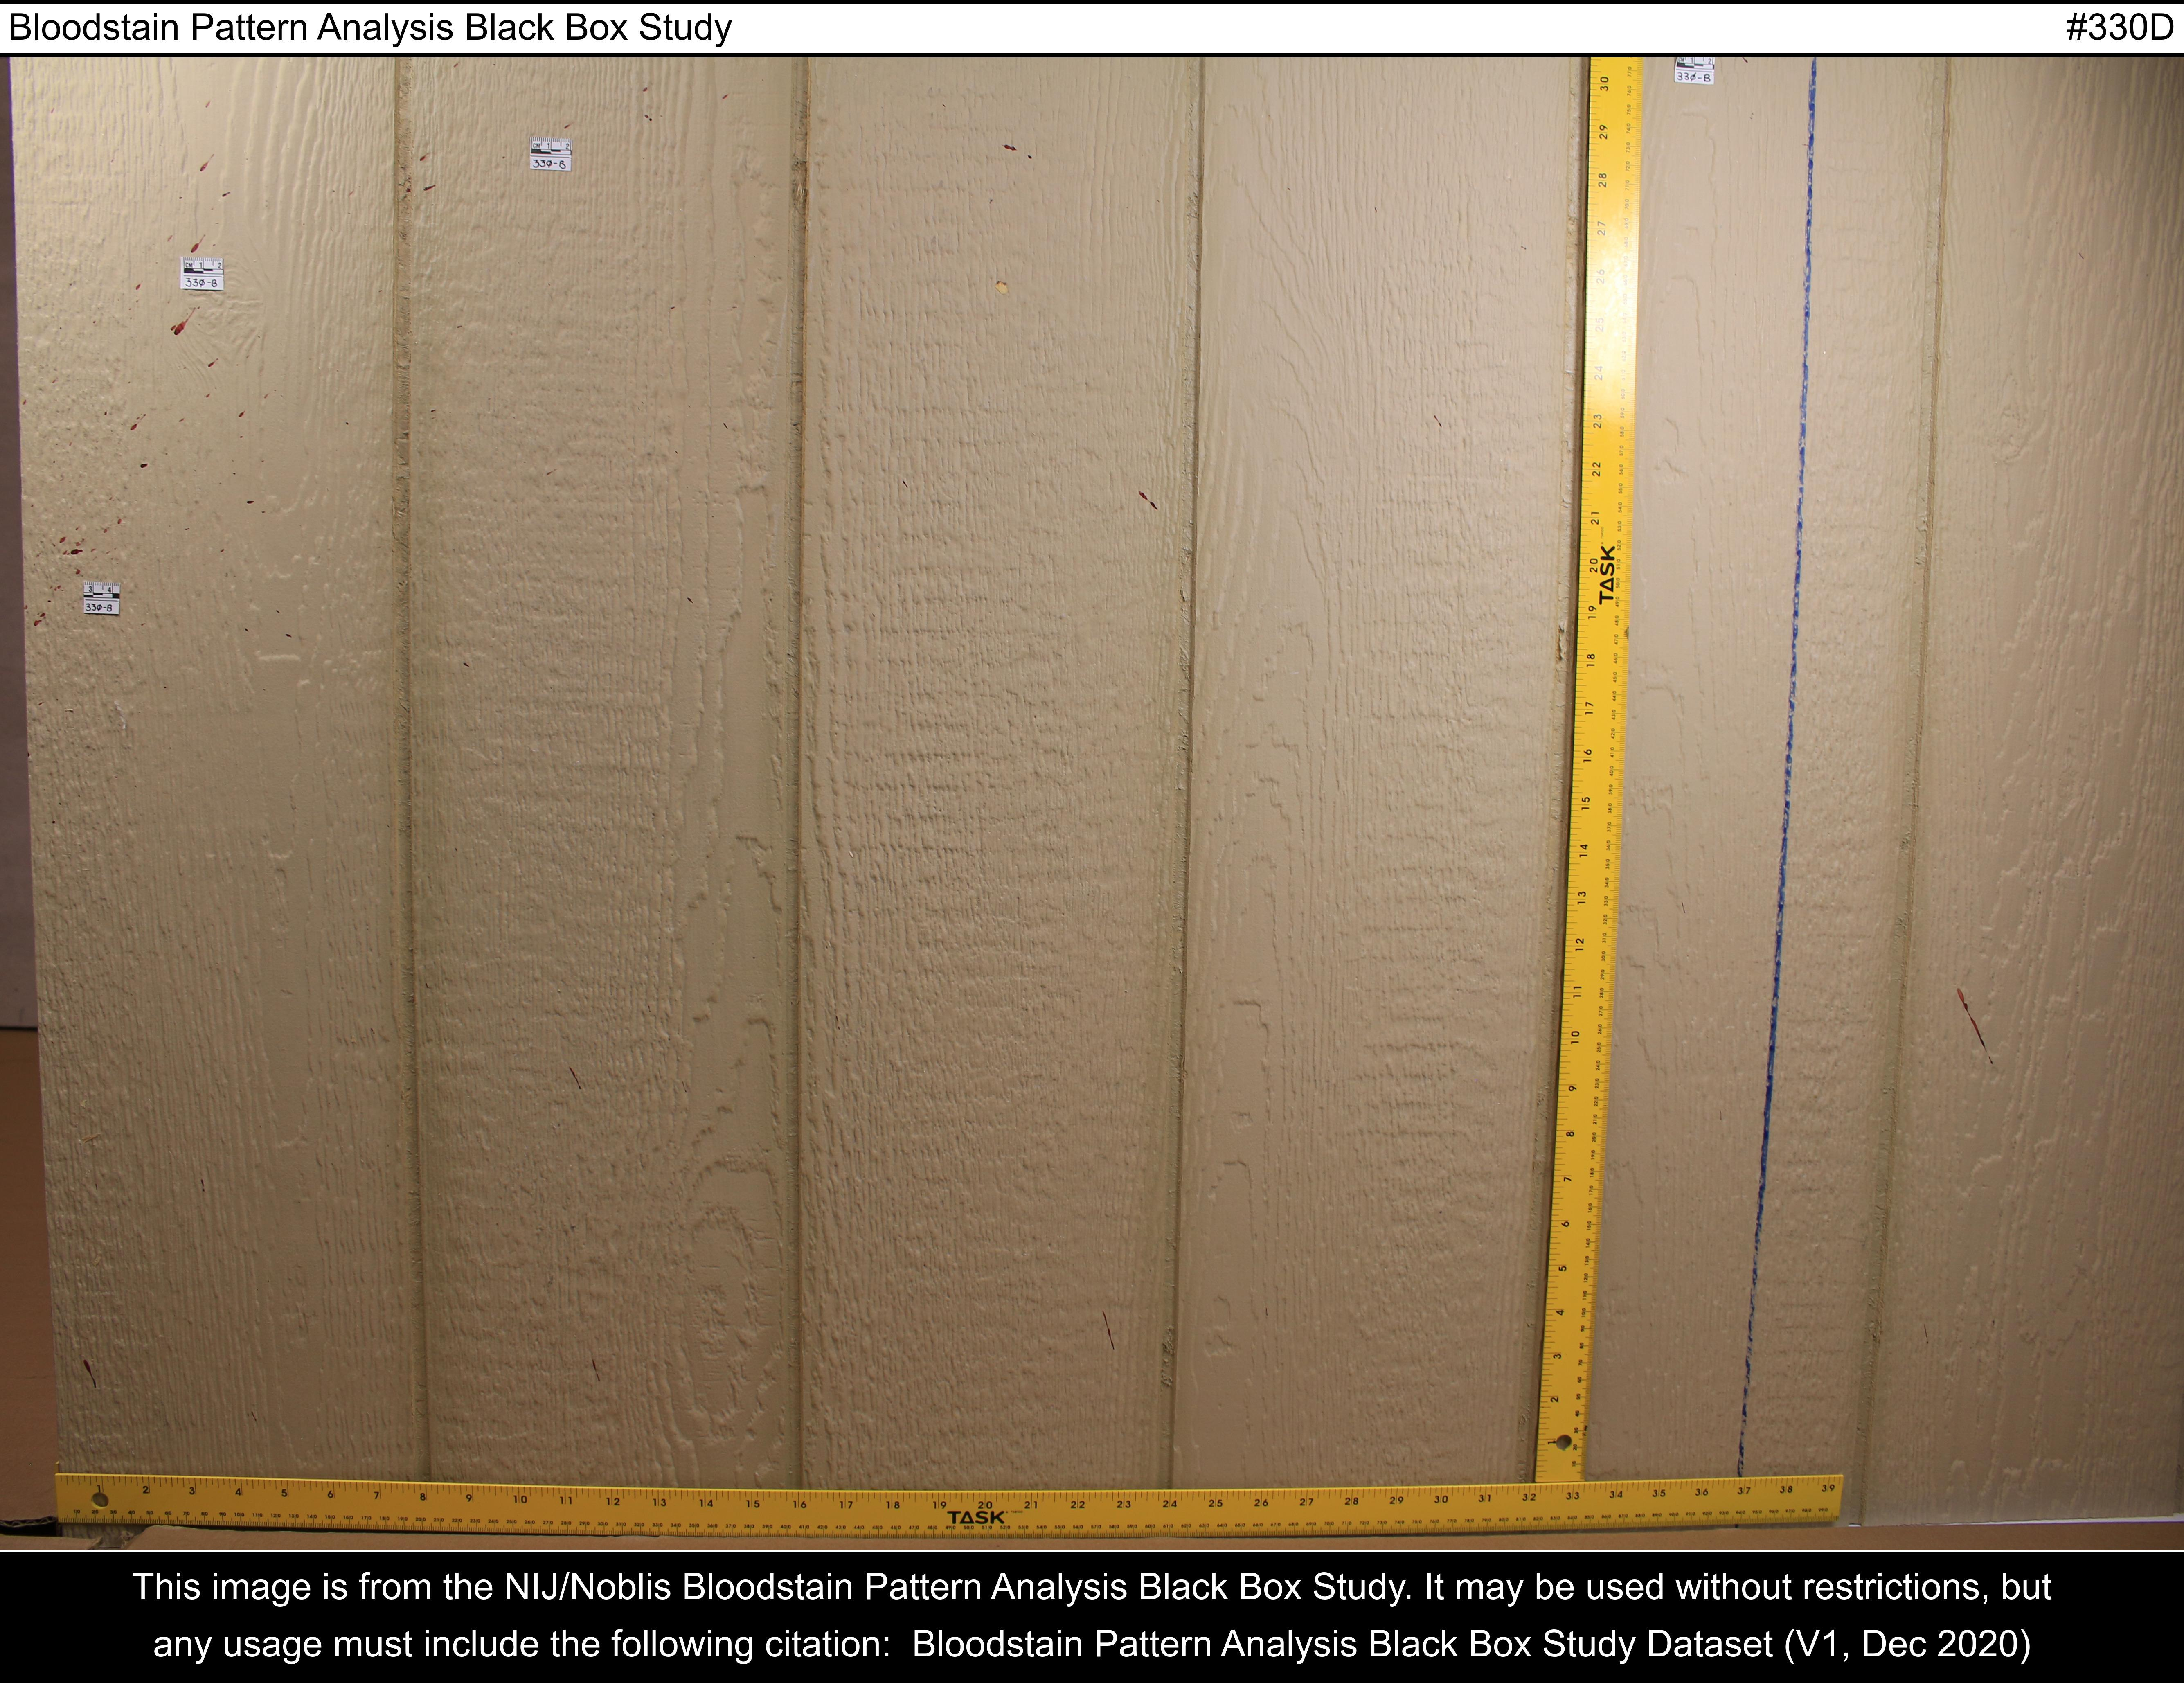Impact: (34, 83, 279, 714)
